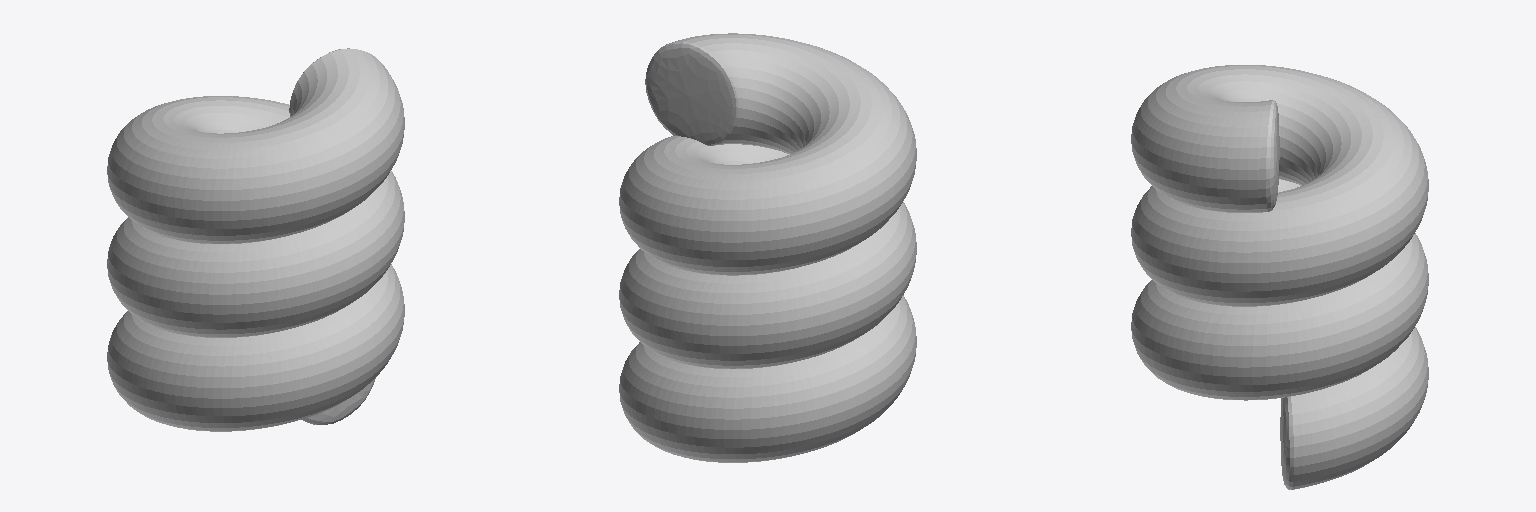
File: helix_42.5.obj
3 views of the same model, side by side, from view 1: azimuth 30°, elevation 25°; view 2: azimuth 150°, elevation 25°; view 3: azimuth 270°, elevation 25° (orthographic).
Visible parts, largest first — view 1: helix:pHelix1; view 2: helix:pHelix1; view 3: helix:pHelix1.
Boxes of the visible parts, <box> form: helix:pHelix1: <box>107,48,404,431</box>; helix:pHelix1: <box>619,33,916,462</box>; helix:pHelix1: <box>1131,65,1428,489</box>.
Size of the model in its own units: 1.92 by 2.71 by 1.92.